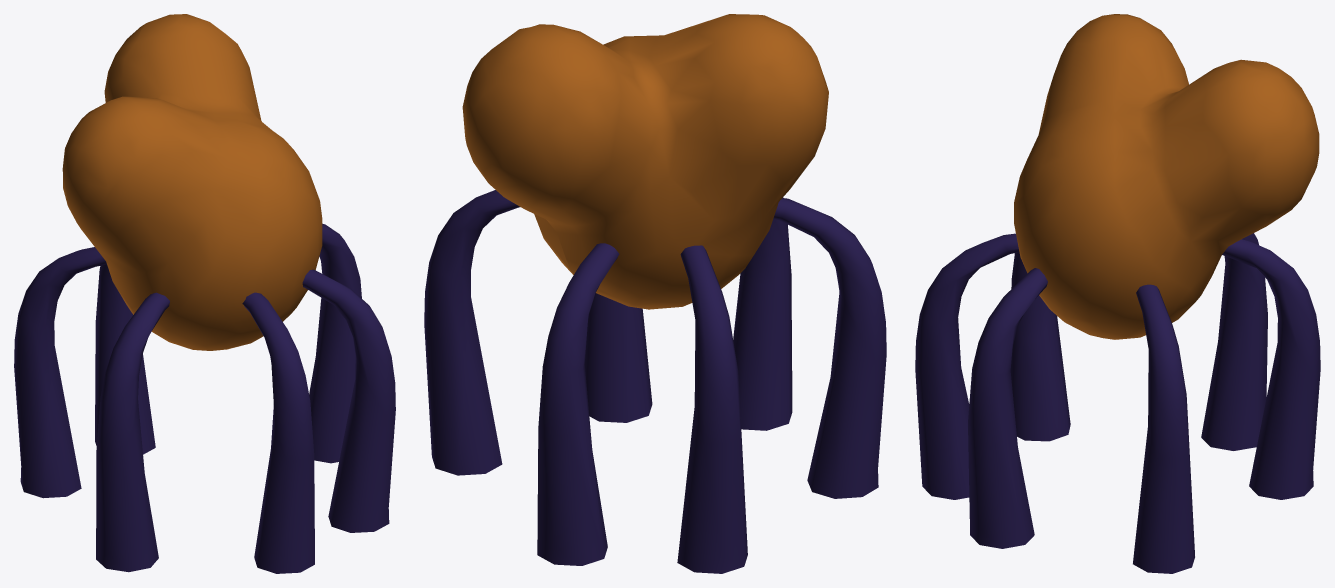
The model's file is tree-blob-2.glb.
3 views of the same model, side by side, from view 1: azimuth 30°, elevation 25°; view 2: azimuth 150°, elevation 25°; view 3: azimuth 270°, elevation 25° (orthographic). The views are drawn at different scales.
Parts seen in each view (by area): view 1: Tree_Blob_2; view 2: Tree_Blob_2; view 3: Tree_Blob_2.
Boxes of the visible parts, x1,y1,x2,y2 form: Tree_Blob_2: (14, 14, 395, 573); Tree_Blob_2: (424, 14, 886, 573); Tree_Blob_2: (915, 14, 1320, 573).
Size of the model in its own units: 3.69 by 4.61 by 3.86.
